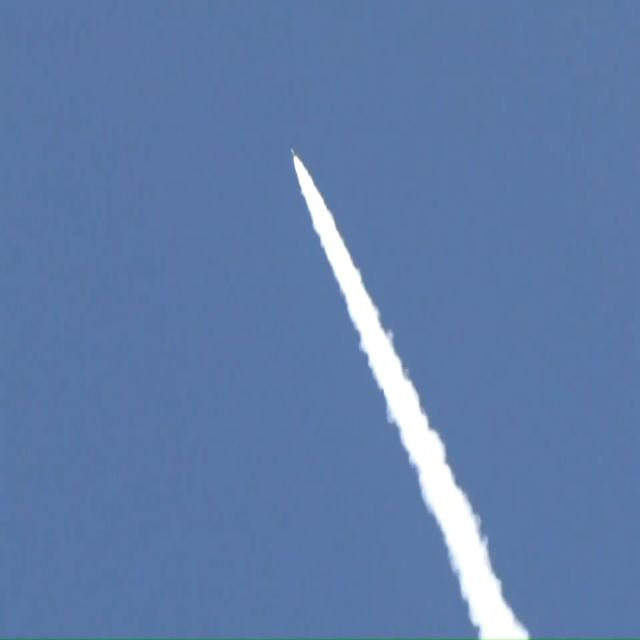Rocket: (291, 148, 295, 158)
